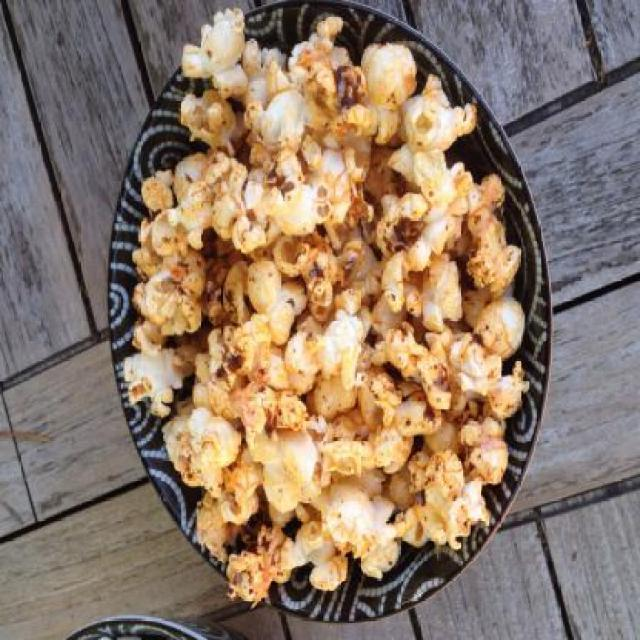Popcorn: (122, 8, 532, 610)
